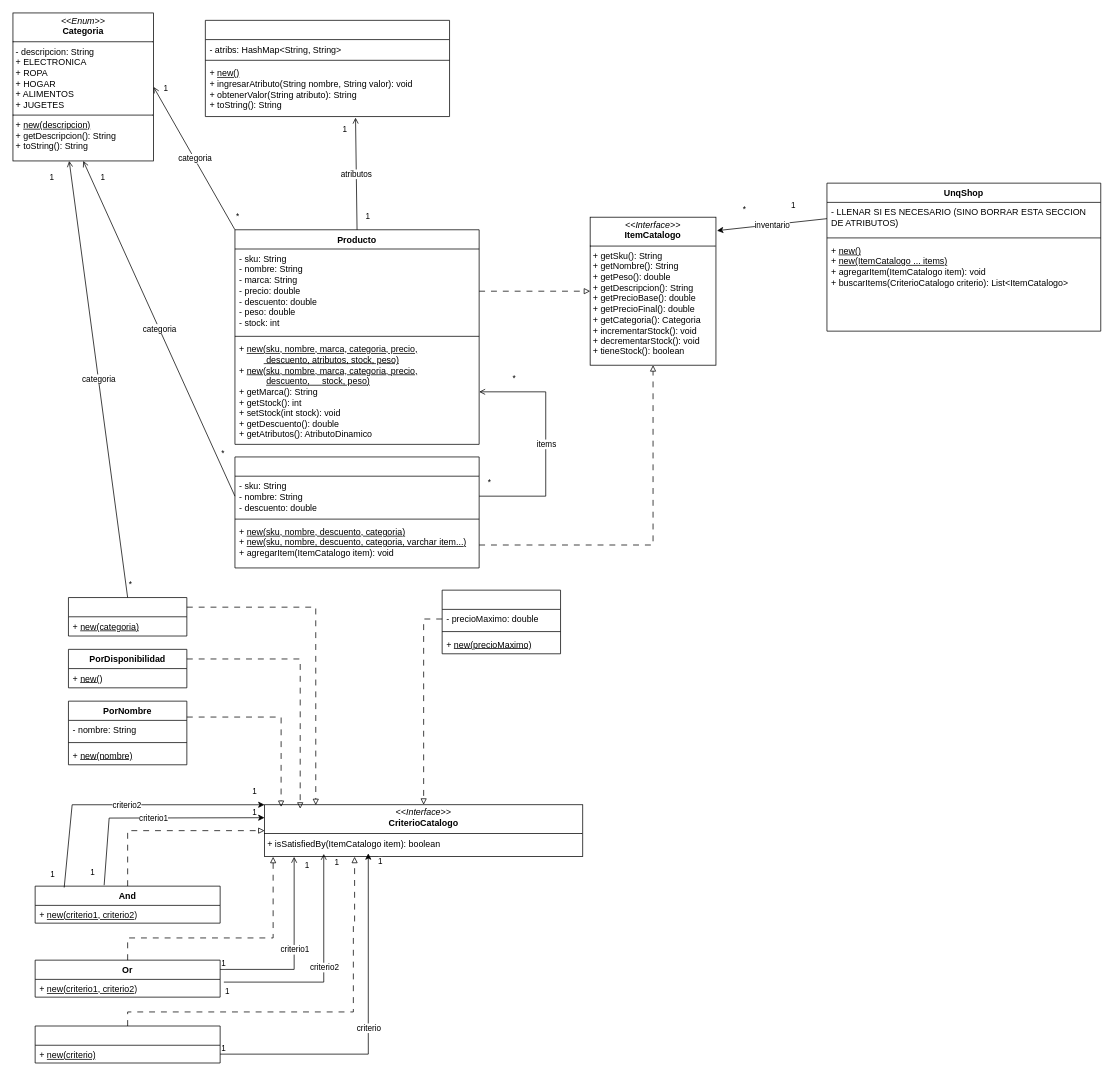
This 1114x1078 diagram has some shape labels left out. Each missing label, with the box of its shape:
AtributoDinamico: (205, 20, 450, 117)
Not: (34, 1025, 220, 1063)
Paquete: (234, 456, 479, 568)
PorCategoria: (68, 597, 187, 636)
PorPrecioMaximo: (441, 589, 561, 654)
